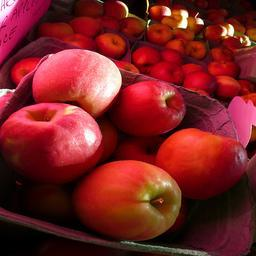apple: (72, 159, 182, 241), (1, 102, 103, 184), (155, 127, 248, 200), (32, 48, 122, 117), (109, 80, 186, 137), (10, 56, 41, 86), (146, 61, 183, 85), (145, 23, 172, 45)
